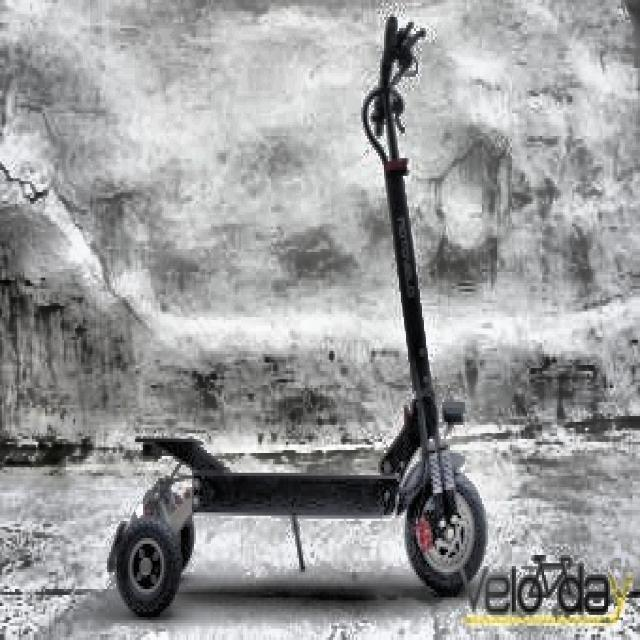bike: (6, 7, 489, 613)
